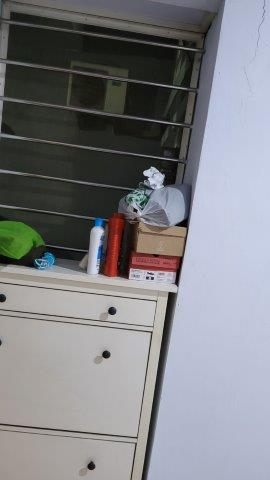kertas: (141, 165, 165, 192)
plastik: (122, 185, 191, 225)
